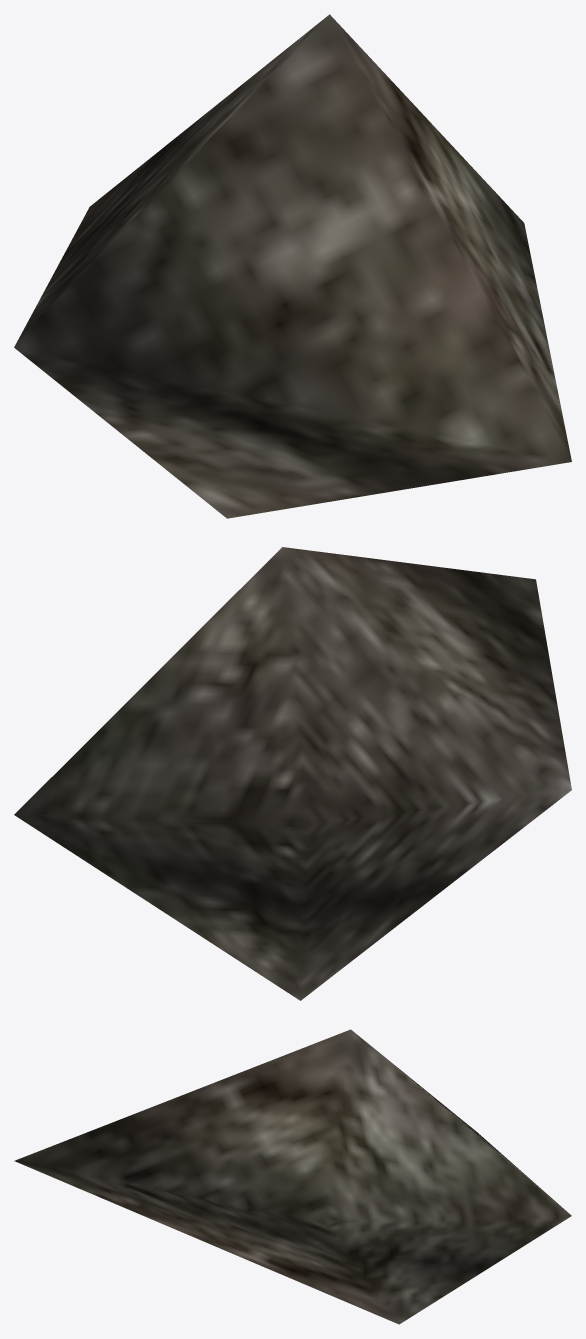
File: Flysmallstone2.glb
3 renders of one model, top to bottom at view 1: azimuth 30°, elevation 25°; view 2: azimuth 150°, elevation 25°; view 3: azimuth 270°, elevation 25°, orthographic. The views are drawn at different scales.
Parts seen in each view (by area): view 1: model_Flysmallstone2; view 2: model_Flysmallstone2; view 3: model_Flysmallstone2.
Boxes of the visible parts, x1,y1,x2,y2 form: model_Flysmallstone2: (14,14,571,518); model_Flysmallstone2: (14,547,571,1000); model_Flysmallstone2: (14,1029,571,1324).
Size of the model in its own units: 0.2906 by 0.2821 by 0.4549.
Materials: 1 (1 with a texture image).
